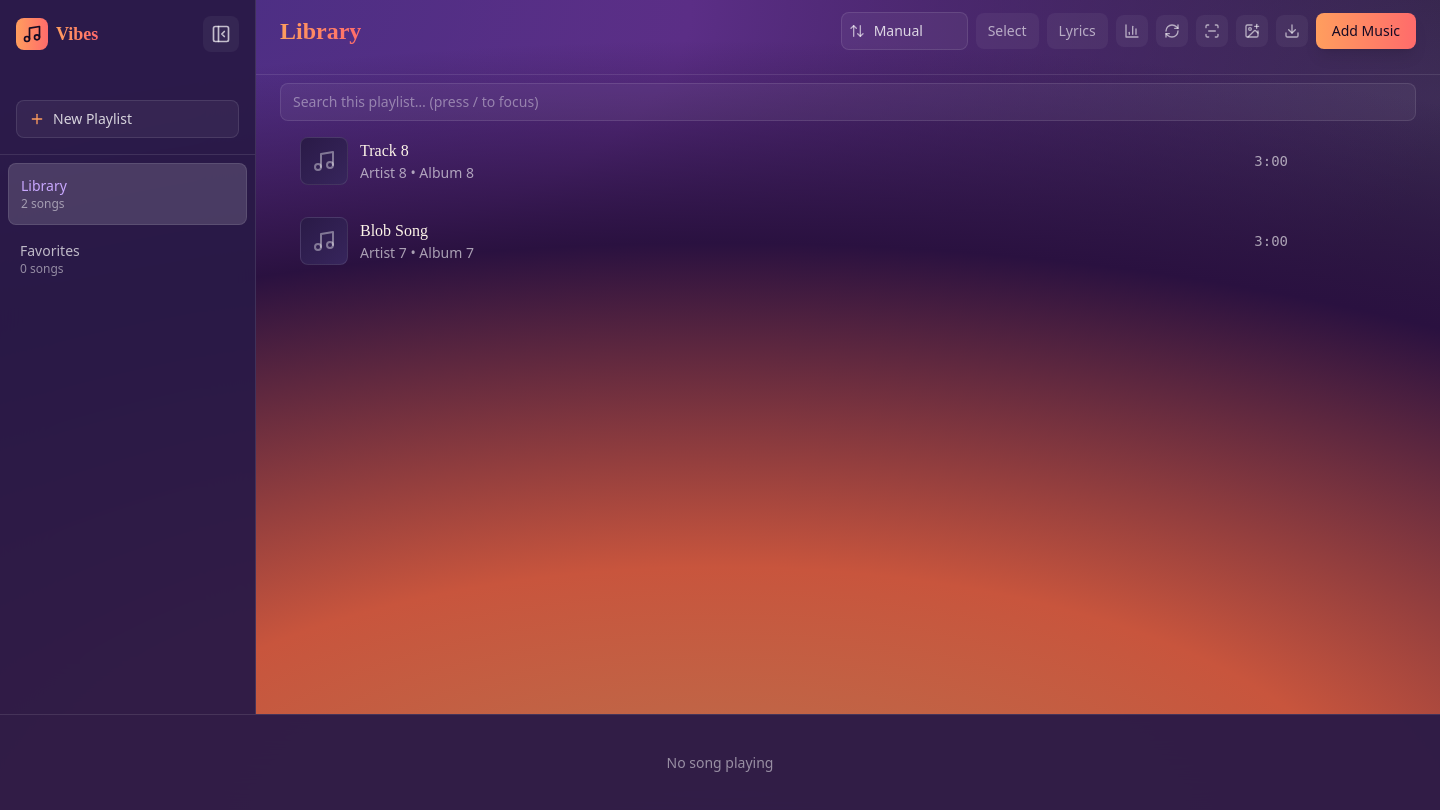
re-scan tags › skips songs that have no file handle
Click the button named "Re-scan tags".
click(1212, 31)  # box [1196, 15, 1228, 47]
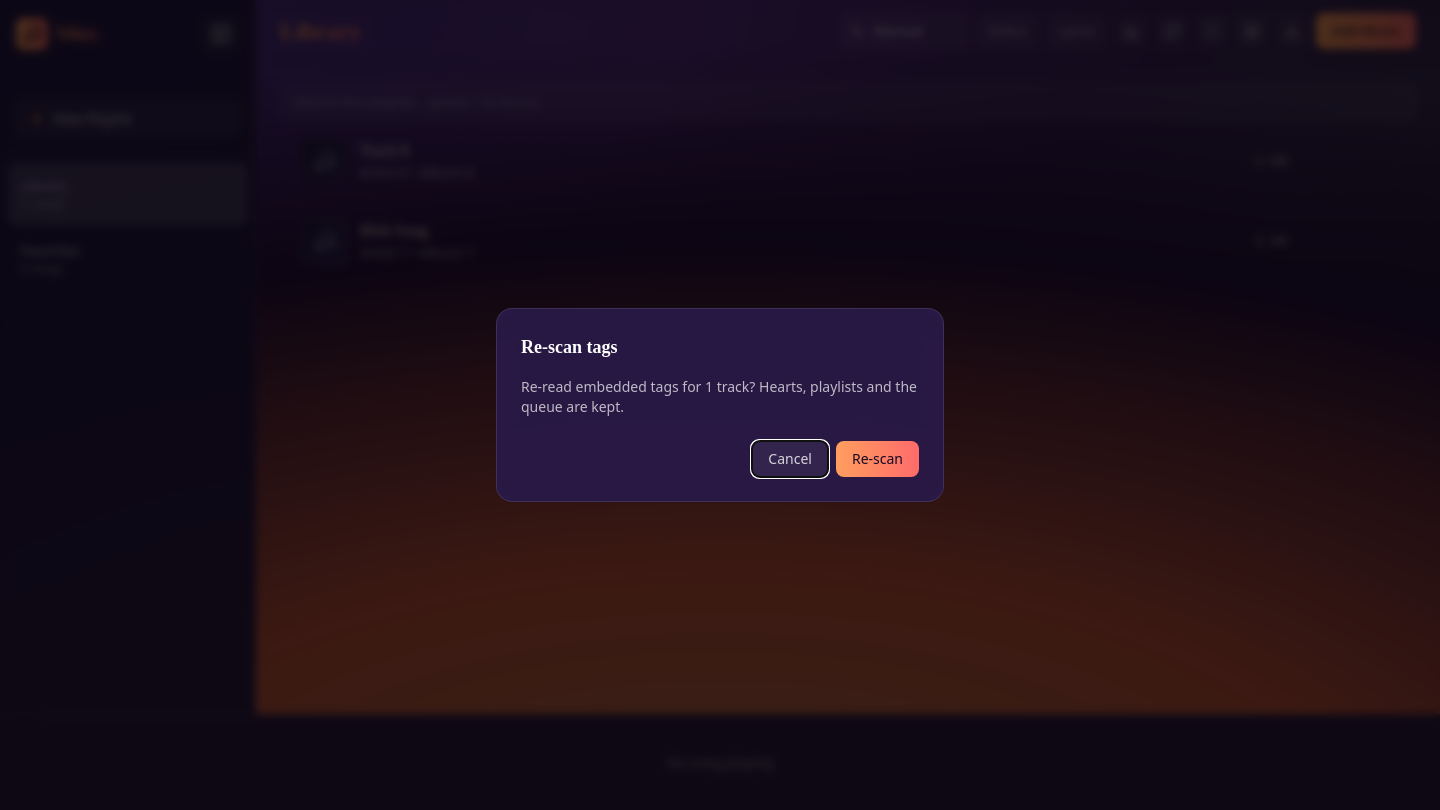
Click the button "Re-scan".
click(878, 459)  # box [836, 441, 919, 477]
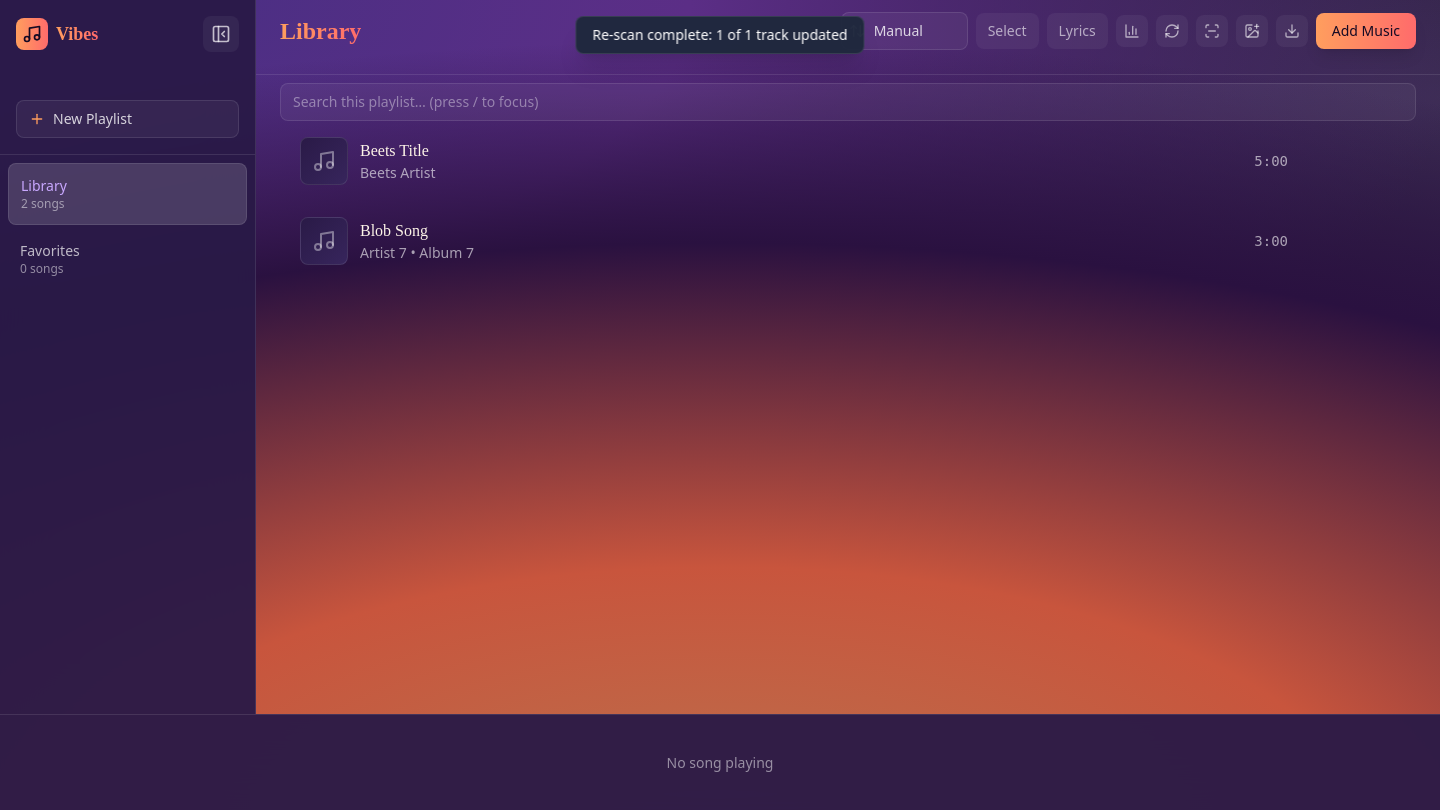
Expected: the text "Blob Song" is shown, [360, 222, 428, 239]
Expected: the text "Beets Title" is shown, [360, 142, 429, 159]
